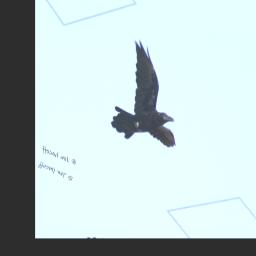Crow: (109, 35, 195, 159)
